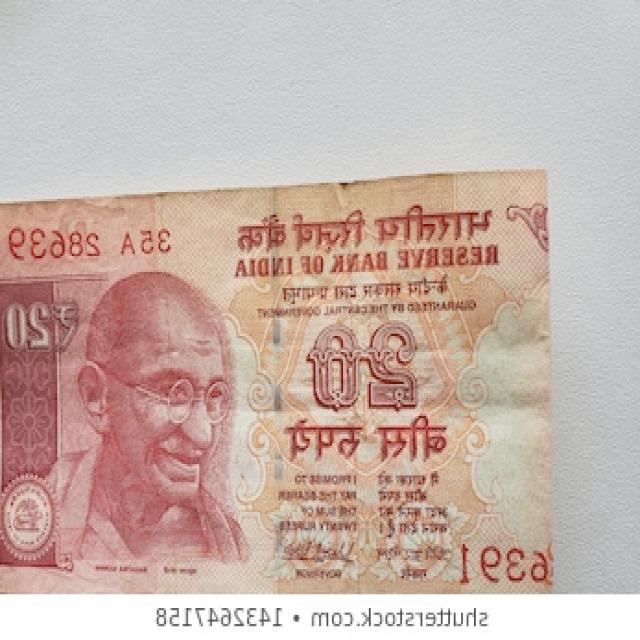20rs: (1, 166, 550, 595)
